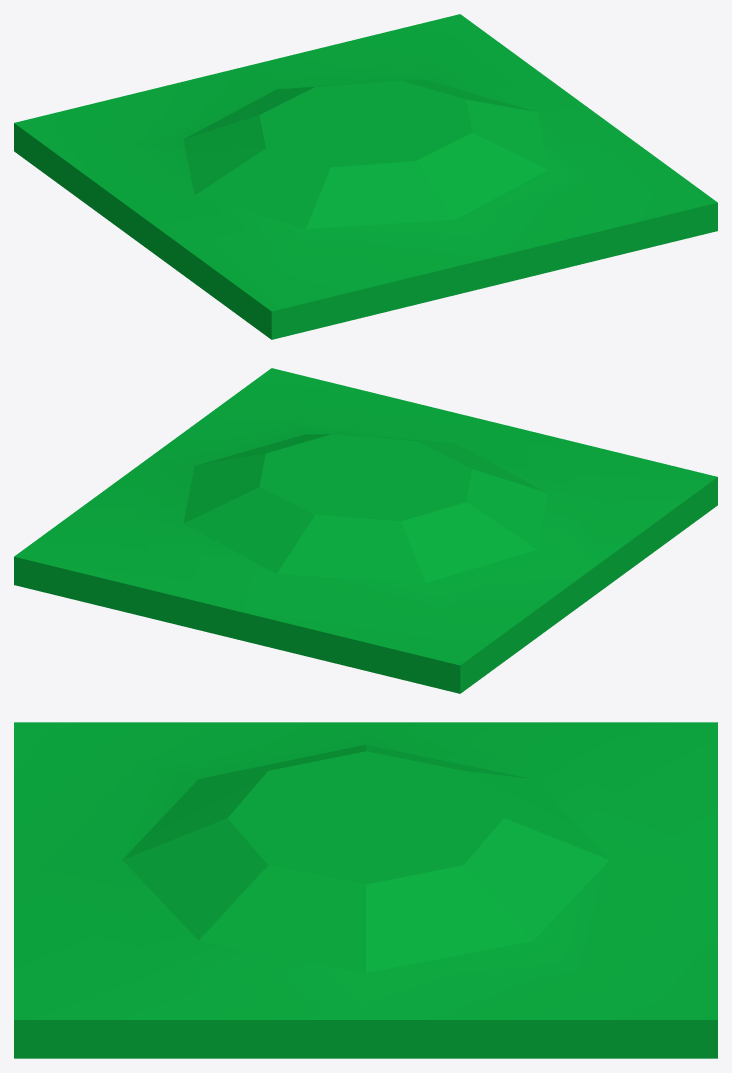
File: basic_centrebump.gltf
3 views of the same model, one above another, from view 1: azimuth 30°, elevation 25°; view 2: azimuth 150°, elevation 25°; view 3: azimuth 270°, elevation 25° (orthographic). The views are drawn at different scales.
Visible parts, largest first — view 1: basic_centrebump_glb; view 2: basic_centrebump_glb; view 3: basic_centrebump_glb.
Part boxes in pixels (x1=…): basic_centrebump_glb: x1=14, y1=14, x2=717, y2=339; basic_centrebump_glb: x1=14, y1=368, x2=717, y2=693; basic_centrebump_glb: x1=14, y1=722, x2=717, y2=1058.
Size of what is drawn, in the model's own units: 4 by 0.5764 by 4.
1 material, 1 textured.
